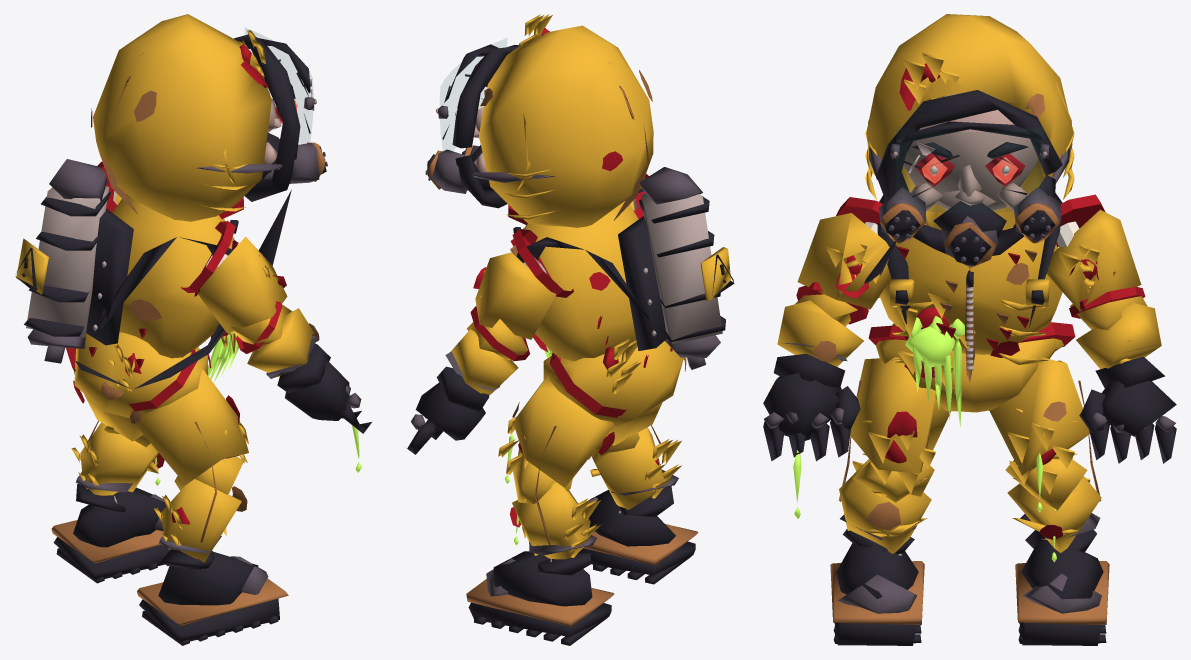
File: inf.hazmat.lod1.glb
The picture shows the model from 3 angles, left to right: view 1: azimuth 30°, elevation 25°; view 2: azimuth 150°, elevation 25°; view 3: azimuth 270°, elevation 25°; orthographic projection. The views are drawn at different scales.
Parts seen in each view (by area): view 1: head, torso, footR, footL, legR, hip, shinR, armR, foreArmR, shinL, handR, stump_armR (+3 smaller); view 2: head, torso, footL, footR, legL, hip, shinL, armL, foreArmL, shinR, handL, stump_armL (+3 smaller); view 3: head, torso, footL, footR, legR, legL, handR, armR, foreArmR, foreArmL, handL, armL (+7 smaller).
Boxes of the visible parts, x1,y1,x2,y2 form: head: (91,14,327,221); torso: (15,159,291,389); footR: (137,536,288,645); footL: (51,475,171,583); legR: (130,369,248,542); hip: (74,328,211,418); shinR: (154,456,247,562); armR: (194,236,287,333); foreArmR: (231,304,330,393); shinL: (71,422,164,495); handR: (285,361,371,472); stump_armR: (180,221,235,292); head: (425,14,653,227); torso: (510,167,734,369); footL: (466,535,614,645); footR: (579,469,698,584); legL: (498,374,614,544); hip: (543,316,686,427); shinL: (510,454,600,559); armL: (473,252,556,339); foreArmL: (436,319,527,411); shinR: (588,427,681,509); handL: (407,382,485,454); stump_armL: (512,229,573,297); head: (865,14,1074,268); torso: (864,193,1062,427); footL: (1015,513,1109,645); footR: (830,514,924,645); legR: (838,357,951,501); legL: (989,357,1101,511); handR: (763,372,860,518); armR: (797,213,890,309); foreArmR: (773,294,863,387); foreArmL: (1070,296,1164,388); handL: (1079,381,1176,463); armL: (1046,209,1141,311).
Bounding box in the file's own units: 0.9018 × 1.8 × 1.1.
